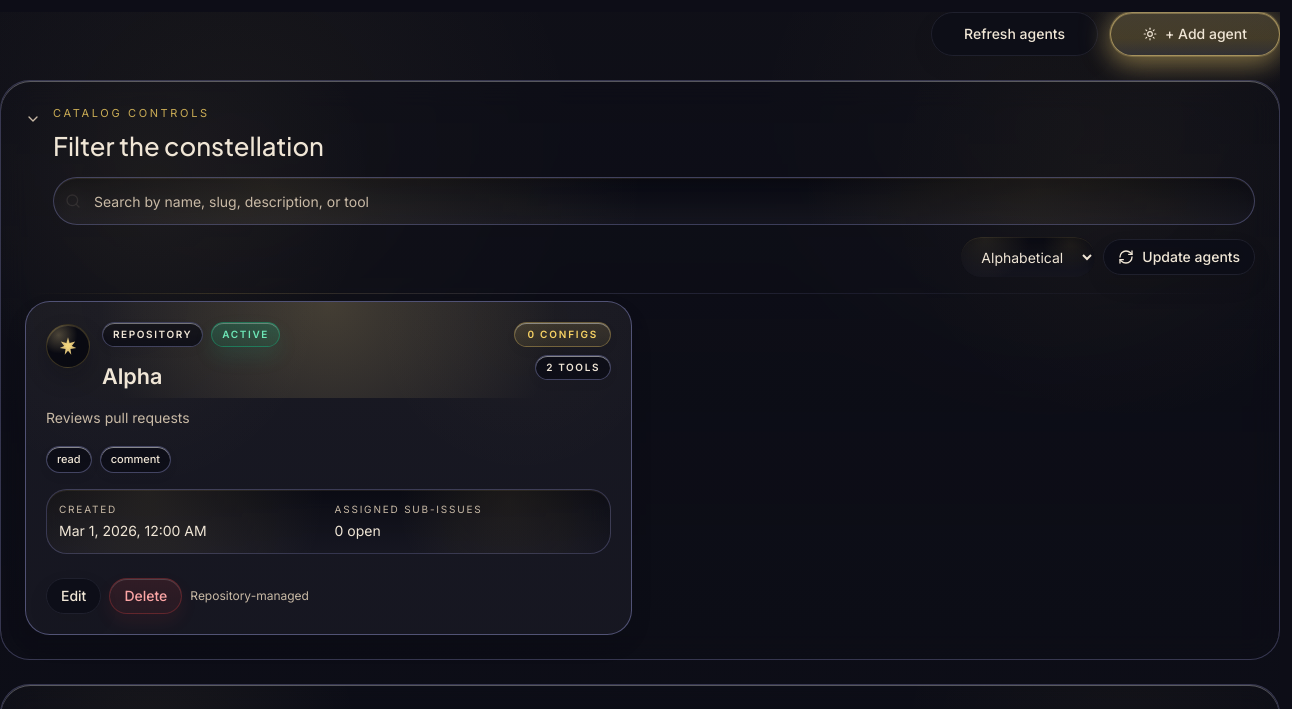
Scenario: AgentsPanel › hides agent cards in Catalog Controls when collapsed
This screenshot has width=1292, height=709.
Expected: the heading "Alpha" is shown, [102, 364, 162, 390]
Click the button "Filter the constellation": (131, 113) [25, 105, 1255, 162]
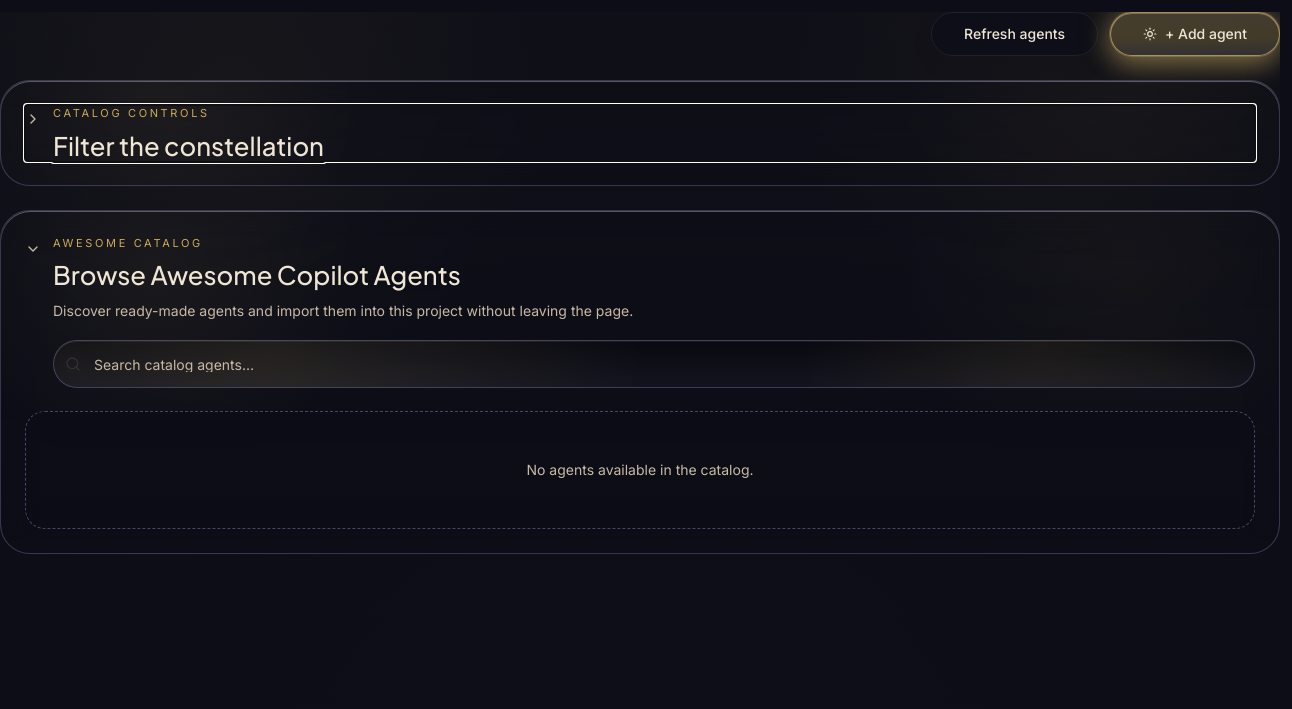
Expected: the heading "Alpha" is gone
